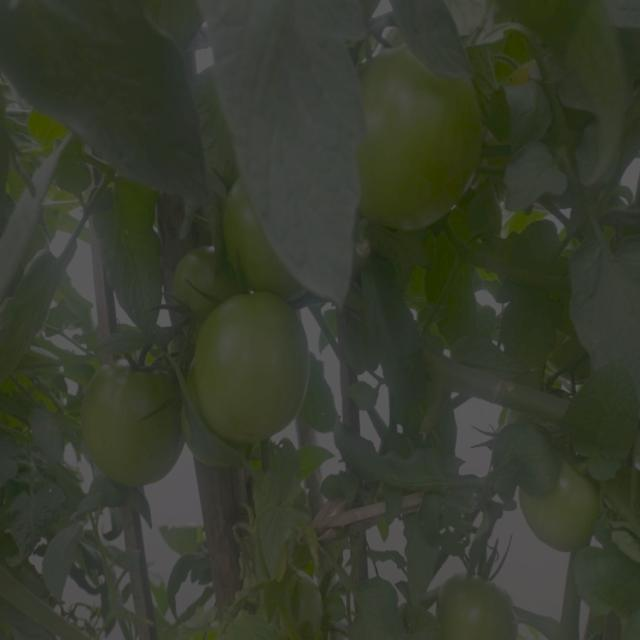tomato: (360, 58, 487, 241), (191, 283, 322, 447), (82, 345, 191, 492), (215, 193, 308, 312), (515, 468, 602, 559), (433, 566, 514, 640), (177, 237, 233, 311)
